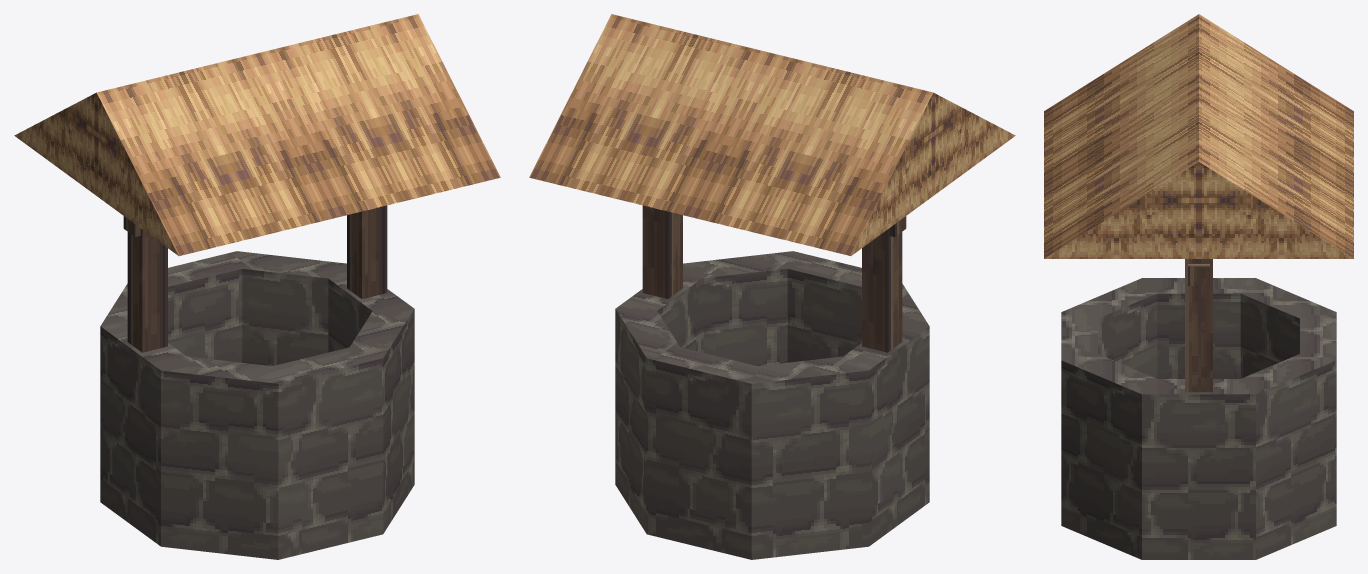
File: well.glb
The picture shows the model from 3 angles, left to right: view 1: azimuth 30°, elevation 25°; view 2: azimuth 150°, elevation 25°; view 3: azimuth 270°, elevation 25°; orthographic projection. The views are drawn at different scales.
Visible parts, largest first — view 1: well; view 2: well; view 3: well.
Part boxes in pixels (x1,y1,x2,y2): well: (14, 14, 500, 559); well: (529, 14, 1015, 559); well: (1044, 14, 1353, 559).
Size of the model in its own units: 1.76 by 2.3 by 1.56.
Materials: 4 (4 with a texture image).
